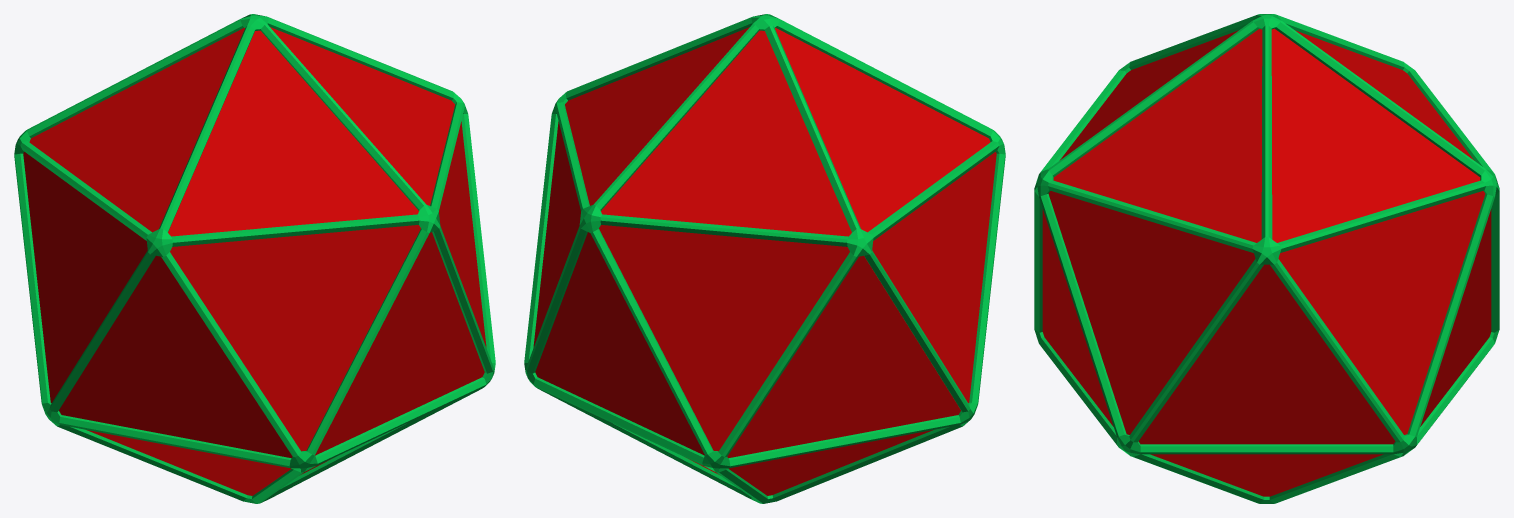
File: arua_universe_eye.obj
The picture shows the model from 3 angles, left to right: view 1: azimuth 30°, elevation 25°; view 2: azimuth 150°, elevation 25°; view 3: azimuth 270°, elevation 25°; orthographic projection.
Visible parts, largest first — view 1: Icosphere.001, Icosphere; view 2: Icosphere.001, Icosphere; view 3: Icosphere.001, Icosphere.
Part boxes in pixels (x1,y1,x2,y2): Icosphere.001: [23, 27, 486, 495]; Icosphere: [14, 14, 495, 503]; Icosphere.001: [533, 27, 996, 495]; Icosphere: [524, 14, 1005, 503]; Icosphere.001: [1042, 28, 1491, 496]; Icosphere: [1034, 14, 1499, 503].
Size of the model in its own units: 1.75 by 1.93 by 1.68.
